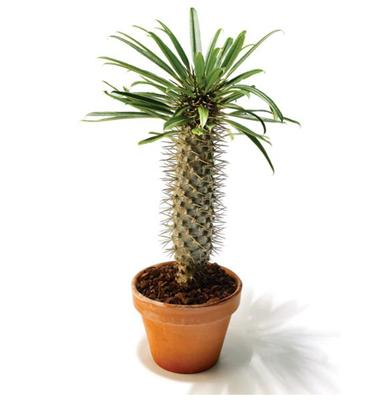Pachypodium lamerei Drake: (111, 17, 291, 285)
